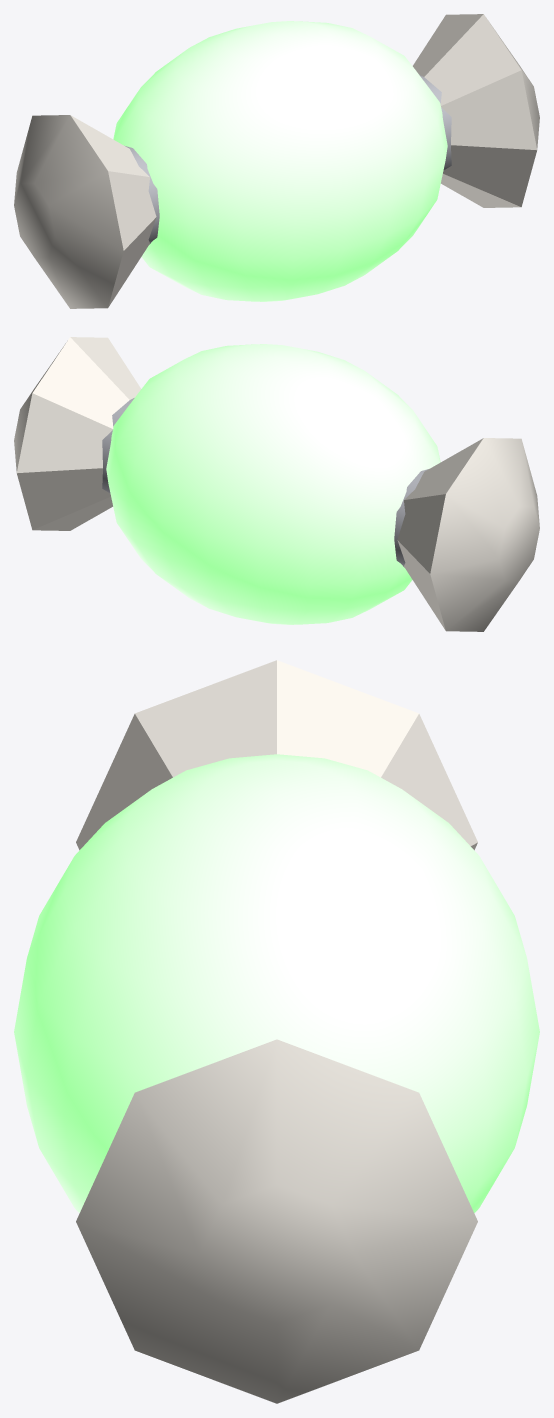
File: ITEM_CandyCell_Green.fbx
3 views of the same model, one above another, from view 1: azimuth 30°, elevation 25°; view 2: azimuth 150°, elevation 25°; view 3: azimuth 270°, elevation 25° (orthographic). The views are drawn at different scales.
Visible parts, largest first — view 1: ITEM_CandyCell_Green; view 2: ITEM_CandyCell_Green; view 3: ITEM_CandyCell_Green.
Part boxes in pixels (<box>): ITEM_CandyCell_Green: <box>14,14,539,308</box>; ITEM_CandyCell_Green: <box>14,337,539,631</box>; ITEM_CandyCell_Green: <box>14,660,539,1403</box>.
Bounding box in the file's own units: 0.68 × 0.34 × 0.34.
